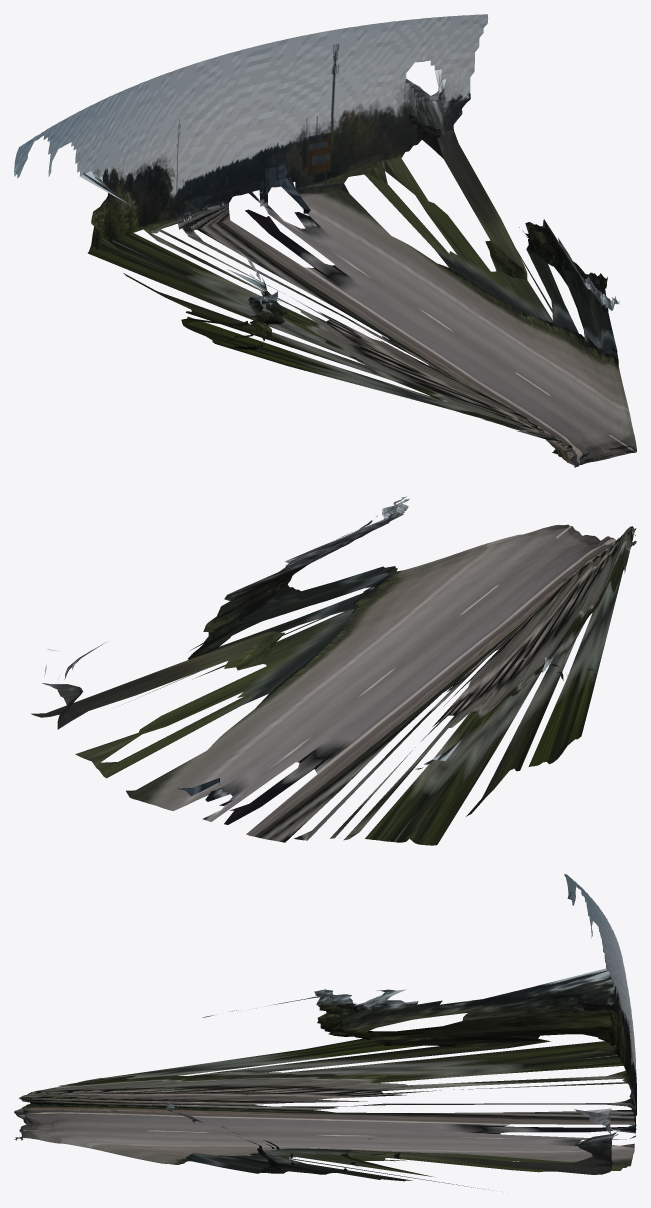
The picture shows the model from 3 angles, top to bottom: view 1: azimuth 30°, elevation 25°; view 2: azimuth 150°, elevation 25°; view 3: azimuth 270°, elevation 25°; orthographic projection. The views are drawn at different scales.
Parts seen in each view (by area): view 1: defaultobject; view 2: defaultobject; view 3: defaultobject.
Boxes of the visible parts, bbox=[...] form: defaultobject: bbox=[14, 14, 636, 467]; defaultobject: bbox=[31, 496, 636, 845]; defaultobject: bbox=[14, 874, 636, 1190].
Size of the model in its own units: 35.7 by 12.09 by 44.66.
1 material, 1 textured.
